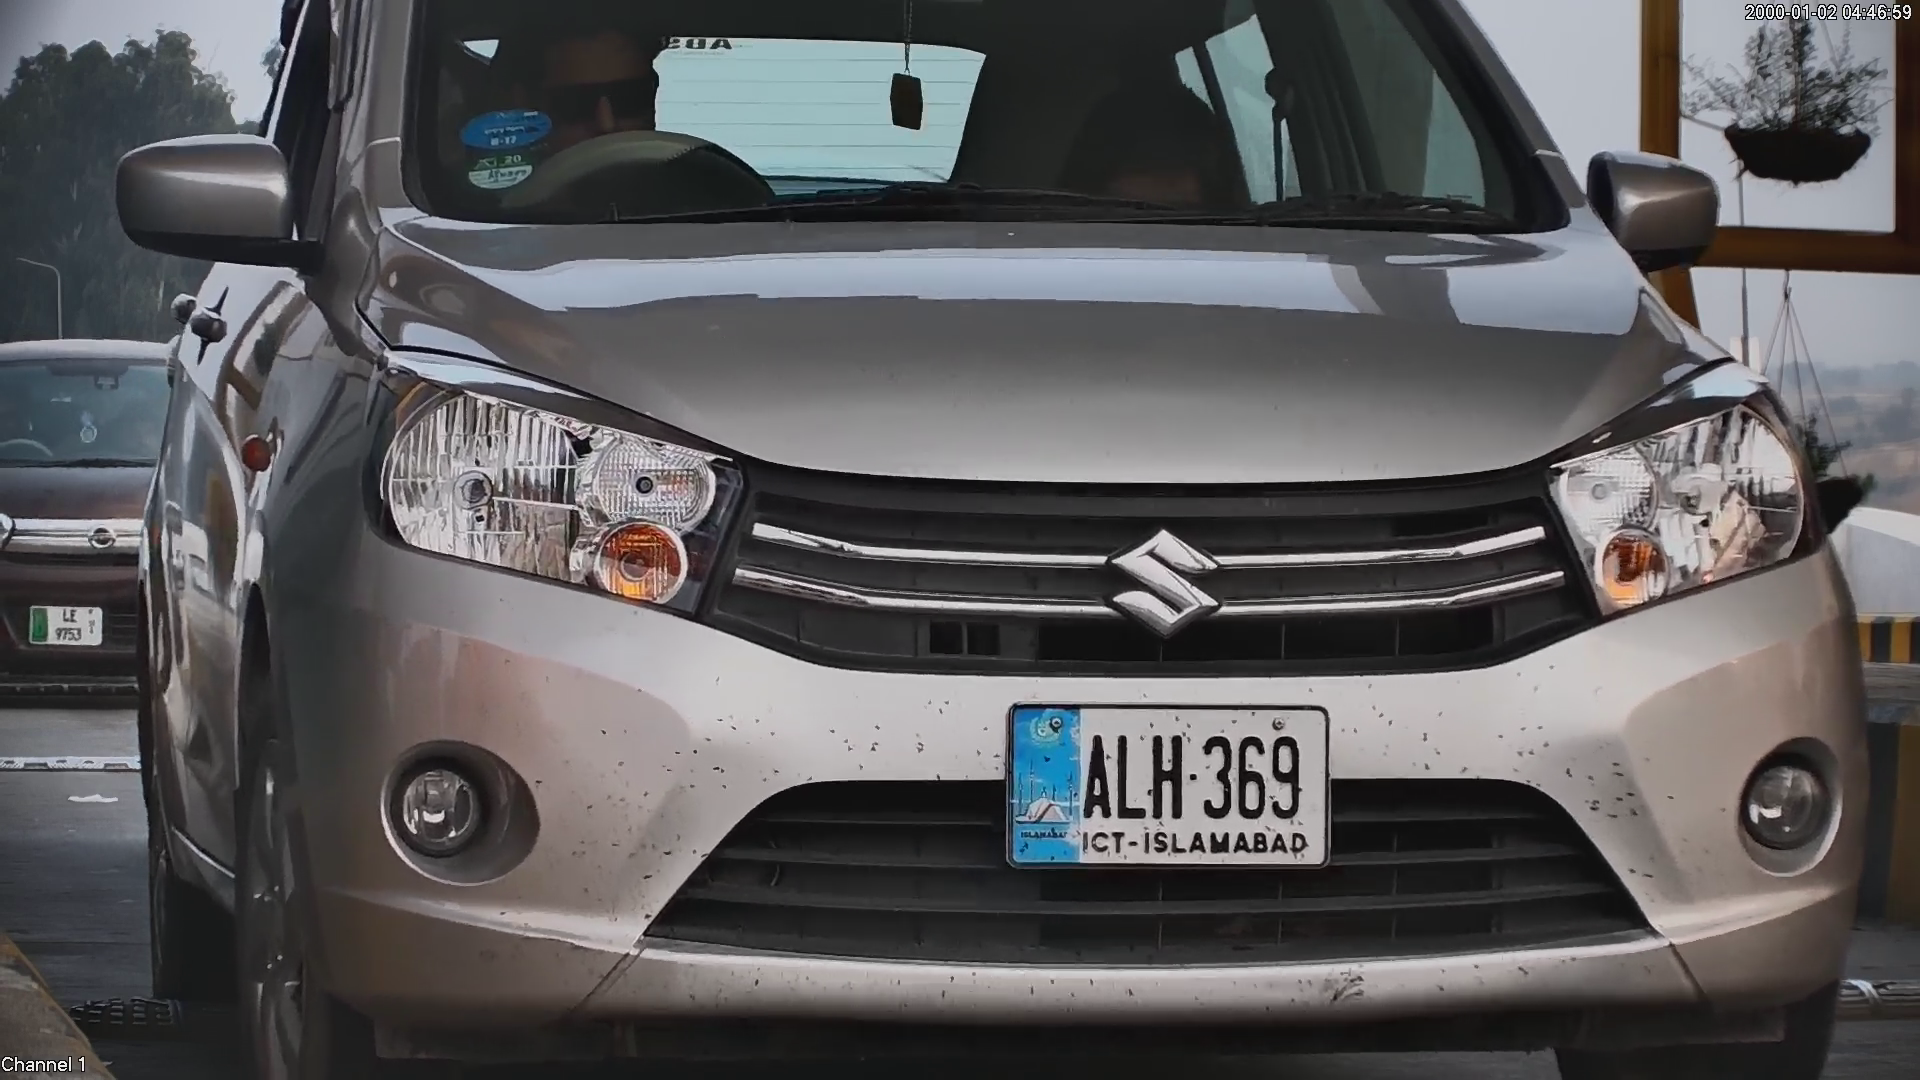Number_Plate: (998, 695, 1340, 879)
